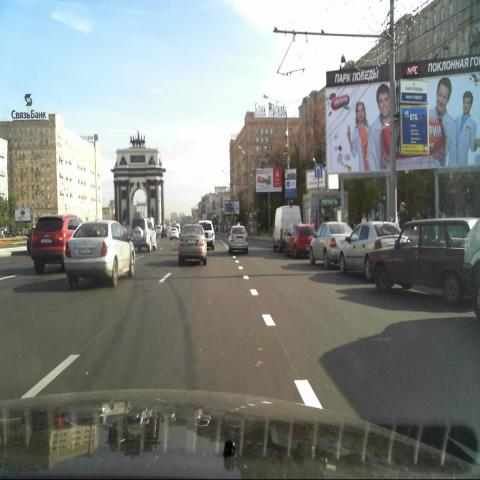5_15_5: (314, 163, 322, 178)
